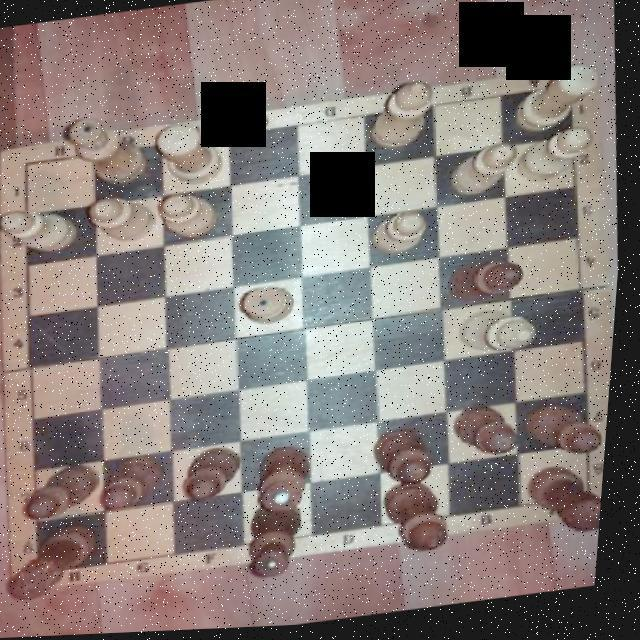chess-table-corners: (17, 542, 87, 592), (534, 68, 602, 119), (0, 141, 65, 191), (557, 472, 611, 524)
